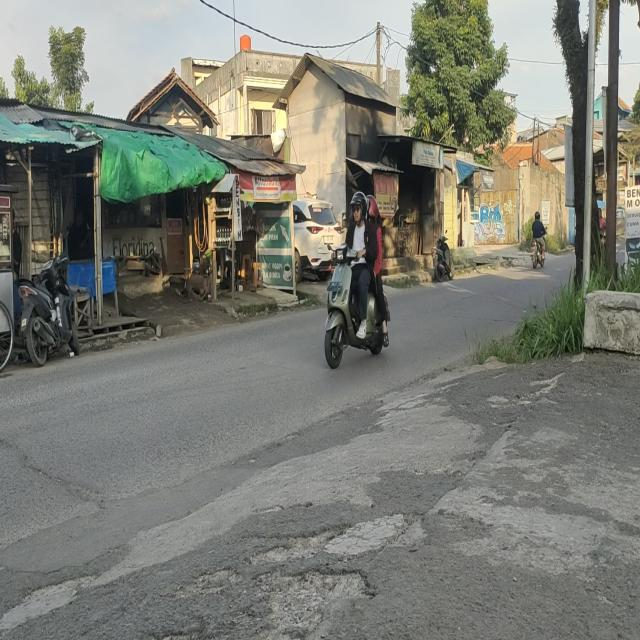helmet: (351, 192, 366, 219), (367, 195, 379, 222)
